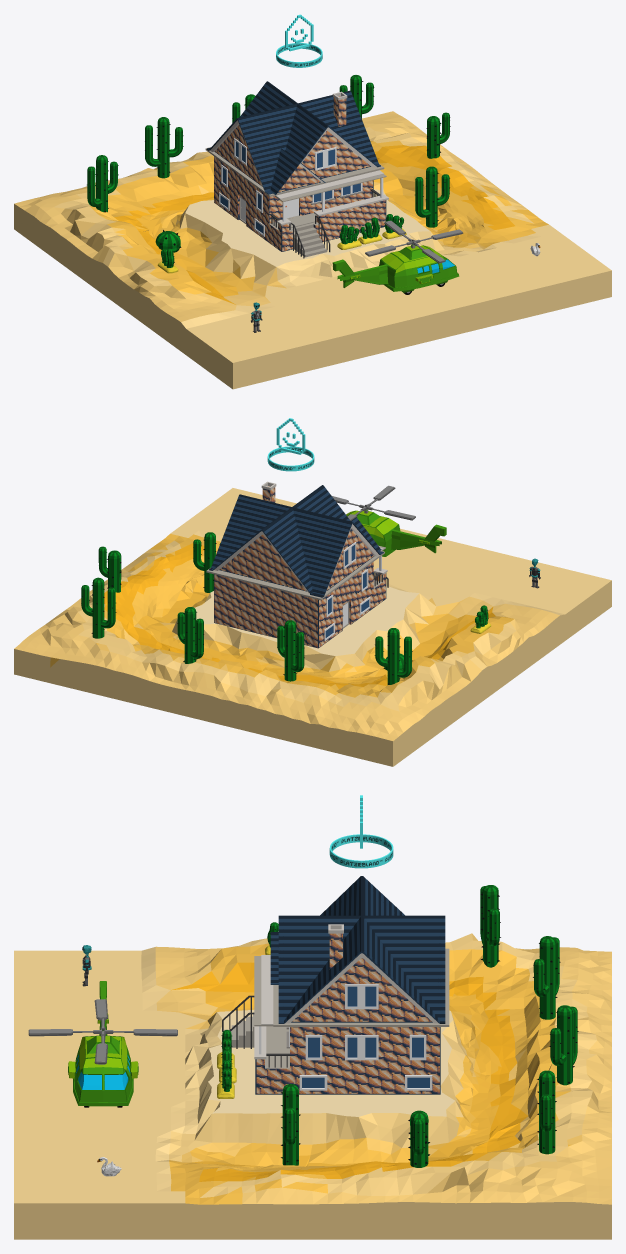
3 renders of one model, top to bottom at view 1: azimuth 30°, elevation 25°; view 2: azimuth 150°, elevation 25°; view 3: azimuth 270°, elevation 25°, orthographic. The views are drawn at different scales.
Parts seen in each view (by area): view 1: Cube.001, Cube.430, VEHICLES_HELICOPTER, Cylinder.044, Cylinder.037, Cylinder.045, TYPE_PREMIUM, Cylinder.038, Cylinder.042; view 2: Cube.001, Cube.430, VEHICLES_HELICOPTER, Cylinder.042, Cylinder.045, Cylinder.044, Cylinder.043, TYPE_PREMIUM, Cylinder.037, Cylinder.038; view 3: Cube.001, Cube.430, VEHICLES_HELICOPTER, Cylinder.044, Cylinder.043, Cylinder.045, Cylinder.042, Cylinder.037, TYPE_PREMIUM, Cylinder.038.
Part boxes in pixels (box(x1,y1,x2,y2)): Cube.001: box(14, 111, 611, 389); Cube.430: box(205, 81, 388, 258); VEHICLES_HELICOPTER: box(332, 220, 463, 294); Cylinder.044: box(145, 117, 183, 178); Cylinder.037: box(415, 166, 449, 227); Cylinder.045: box(87, 155, 118, 212); TYPE_PREMIUM: box(276, 14, 322, 67); Cylinder.038: box(426, 112, 450, 158); Cylinder.042: box(339, 75, 374, 118); Cube.001: box(14, 488, 611, 766); Cube.430: box(206, 481, 388, 648); VEHICLES_HELICOPTER: box(332, 485, 446, 556); Cylinder.042: box(81, 577, 116, 638); Cylinder.045: box(374, 628, 412, 684); Cylinder.044: box(277, 620, 304, 681); Cylinder.043: box(177, 607, 203, 663); TYPE_PREMIUM: box(267, 418, 314, 471); Cylinder.037: box(193, 532, 220, 592); Cylinder.038: box(98, 546, 121, 592); Cube.001: box(14, 933, 611, 1239); Cube.430: box(222, 876, 449, 1094); VEHICLES_HELICOPTER: box(28, 981, 177, 1107); Cylinder.044: box(533, 936, 560, 1019); Cylinder.043: box(549, 1005, 578, 1085); Cylinder.045: box(480, 885, 500, 967); Cylinder.042: box(537, 1070, 556, 1154); Cylinder.037: box(281, 1084, 300, 1165); TYPE_PREMIUM: box(329, 795, 393, 868); Cylinder.038: box(408, 1110, 429, 1167).
Size of the model in its own units: 4002 by 2460 by 4001.
Materials: 37 (5 with a texture image).
